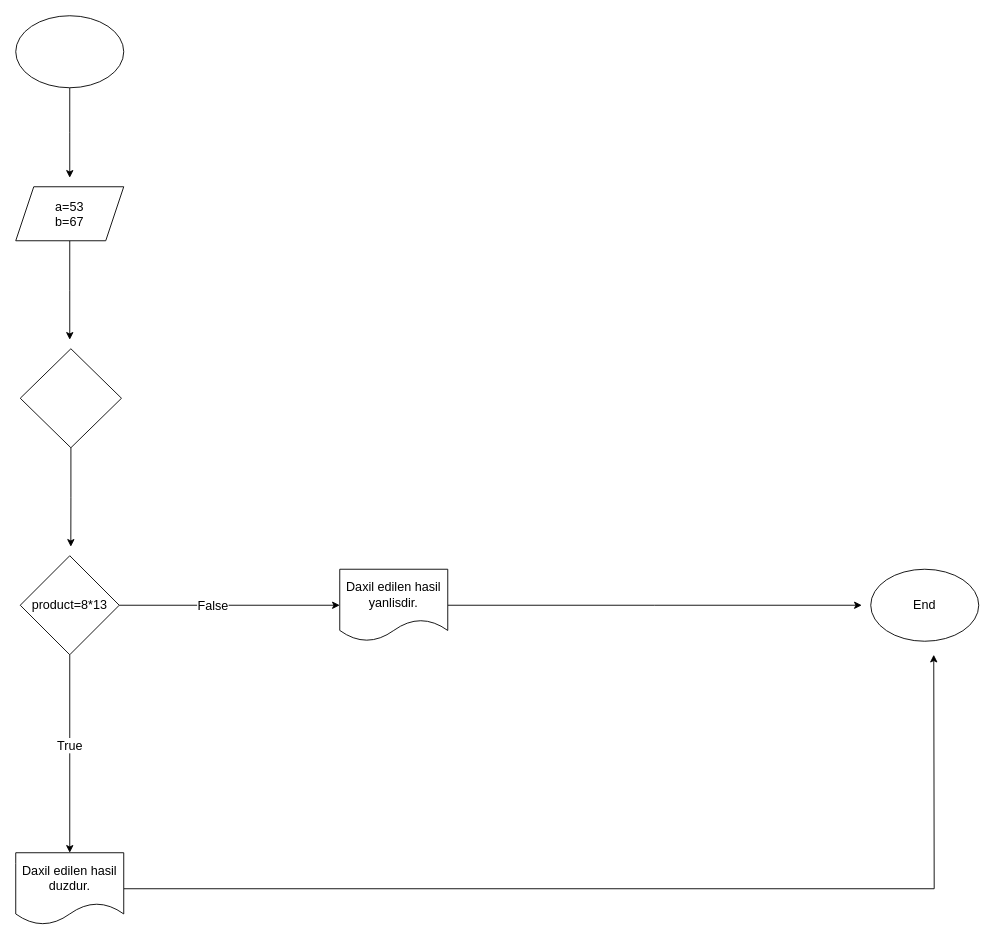
Image size: 995x941. Some labels were removed from this diagram. Each missing label, with the centre of its shape:
"Start" goes at point (69, 51).
"sum1=5+3 && sum2=6+7" goes at point (70, 398).
